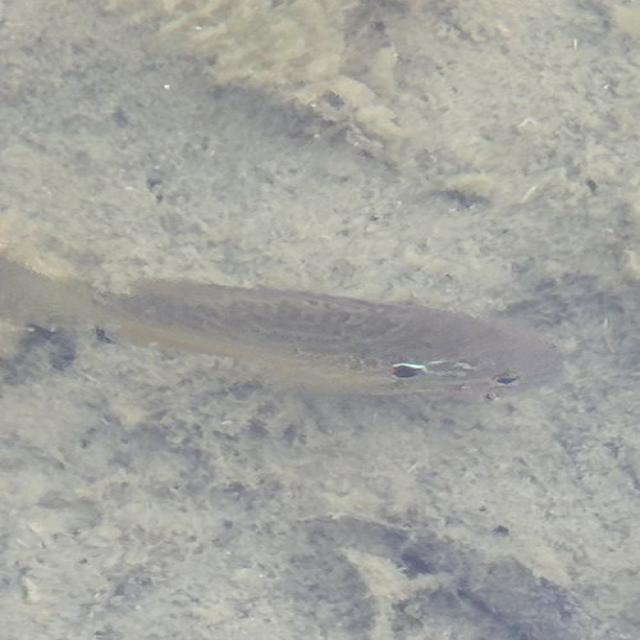Gunes Levregi: (3, 256, 570, 400)
